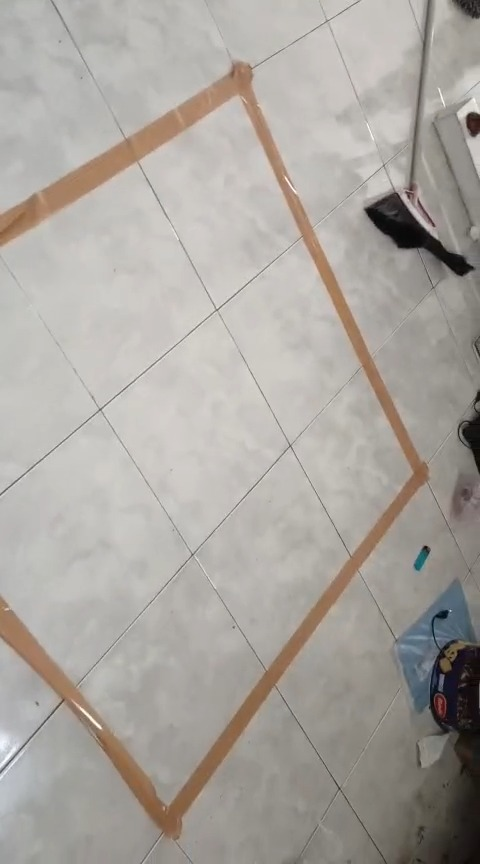floor marking: (0, 63, 428, 838)
